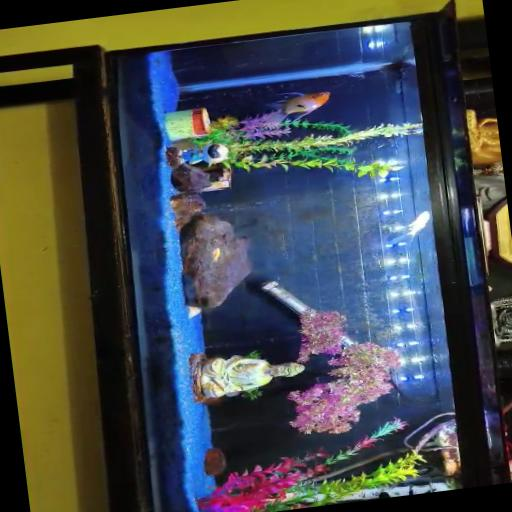Fish: (269, 92, 330, 122), (387, 211, 429, 244), (212, 248, 219, 261)
